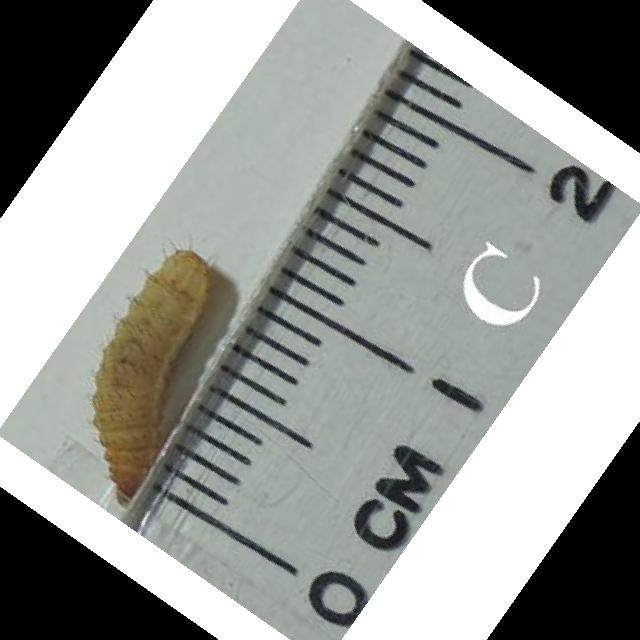Maggot: (84, 242, 214, 501)
